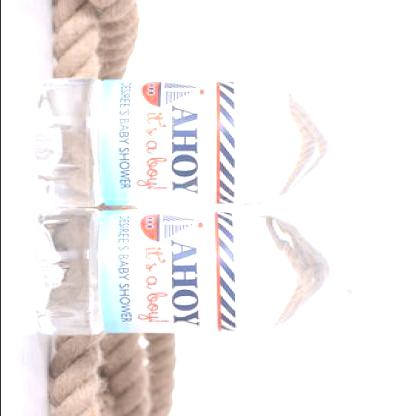bottle: (26, 209, 380, 339), (28, 82, 382, 206)
